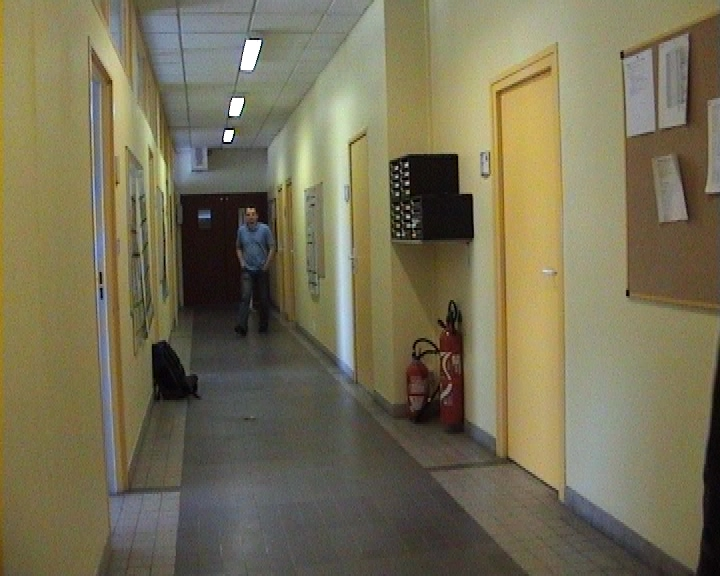leave bag unattended: (139, 323, 206, 415)
